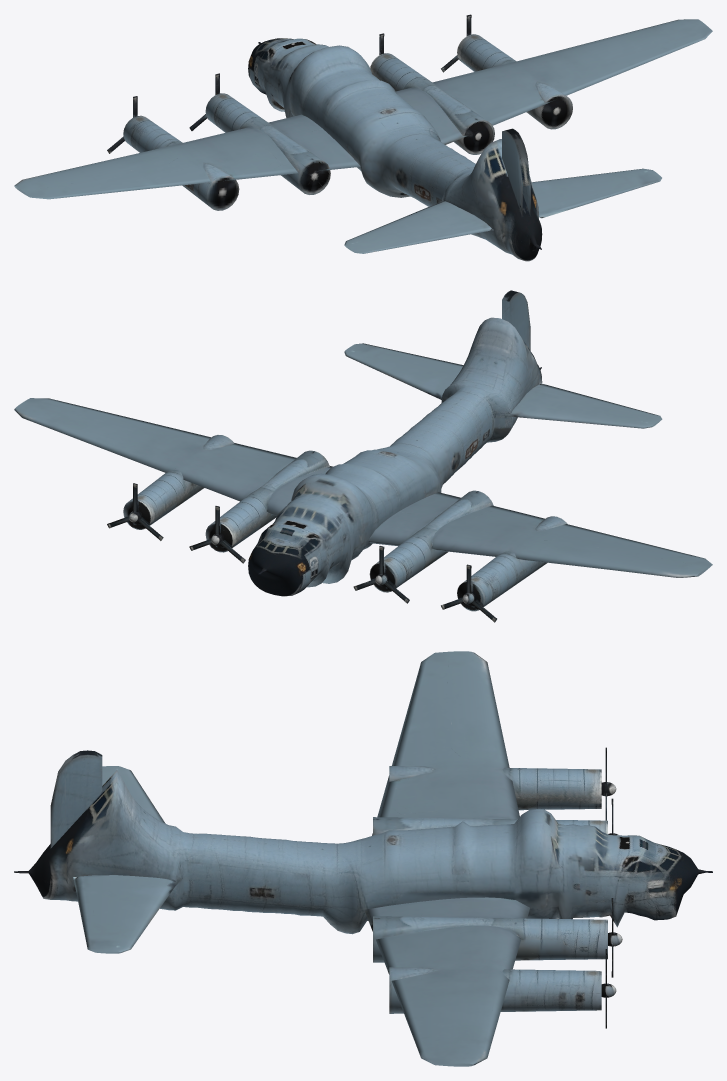
Rendered from meshy_model.glb.
3 views of the same model, one above another, from view 1: azimuth 30°, elevation 25°; view 2: azimuth 150°, elevation 25°; view 3: azimuth 270°, elevation 25° (orthographic). The views are drawn at different scales.
Bounding box in the file's own units: 2 × 0.4147 × 1.43.
Materials: 1 (1 with a texture image).
